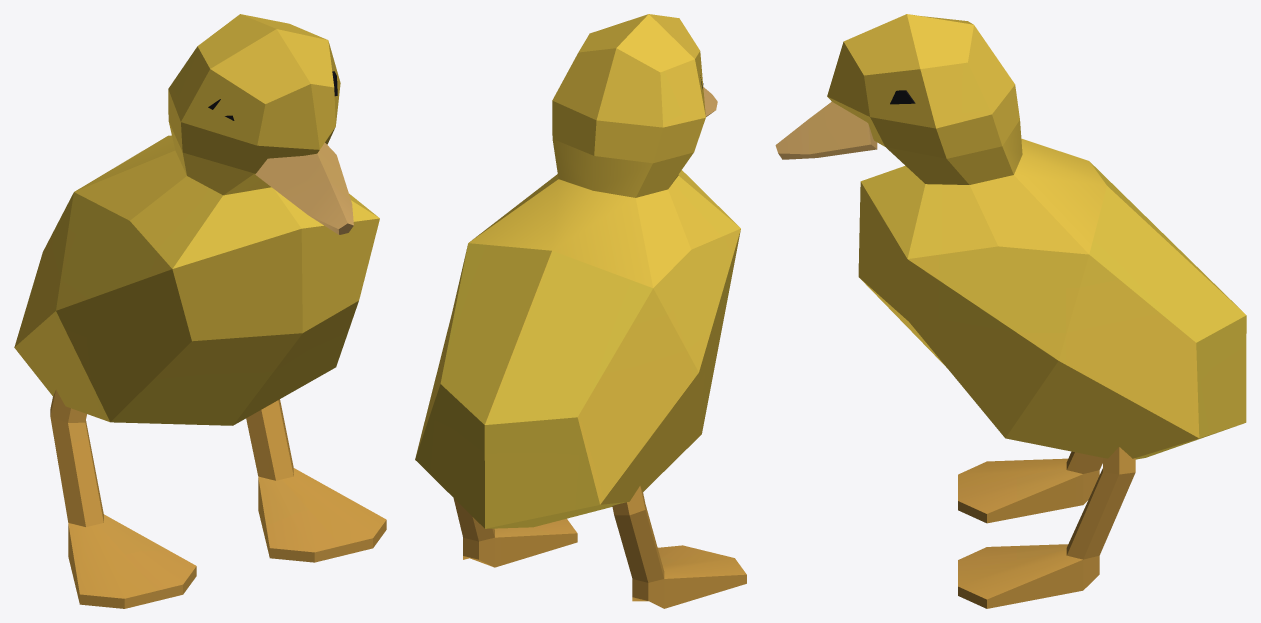
File: cGH2xtNdS4i.glb
The picture shows the model from 3 angles, left to right: view 1: azimuth 30°, elevation 25°; view 2: azimuth 150°, elevation 25°; view 3: azimuth 270°, elevation 25°; orthographic projection. The views are drawn at different scales.
Visible parts, largest first — view 1: Geo_Duckling; view 2: Geo_Duckling; view 3: Geo_Duckling.
Boxes of the visible parts, x1,y1,x2,y2 form: Geo_Duckling: (14,14,386,608); Geo_Duckling: (415,14,746,608); Geo_Duckling: (775,14,1246,608).
Bounding box in the file's own units: 0.5633 × 1 × 0.8119.
Materials: 1 (1 with a texture image).
